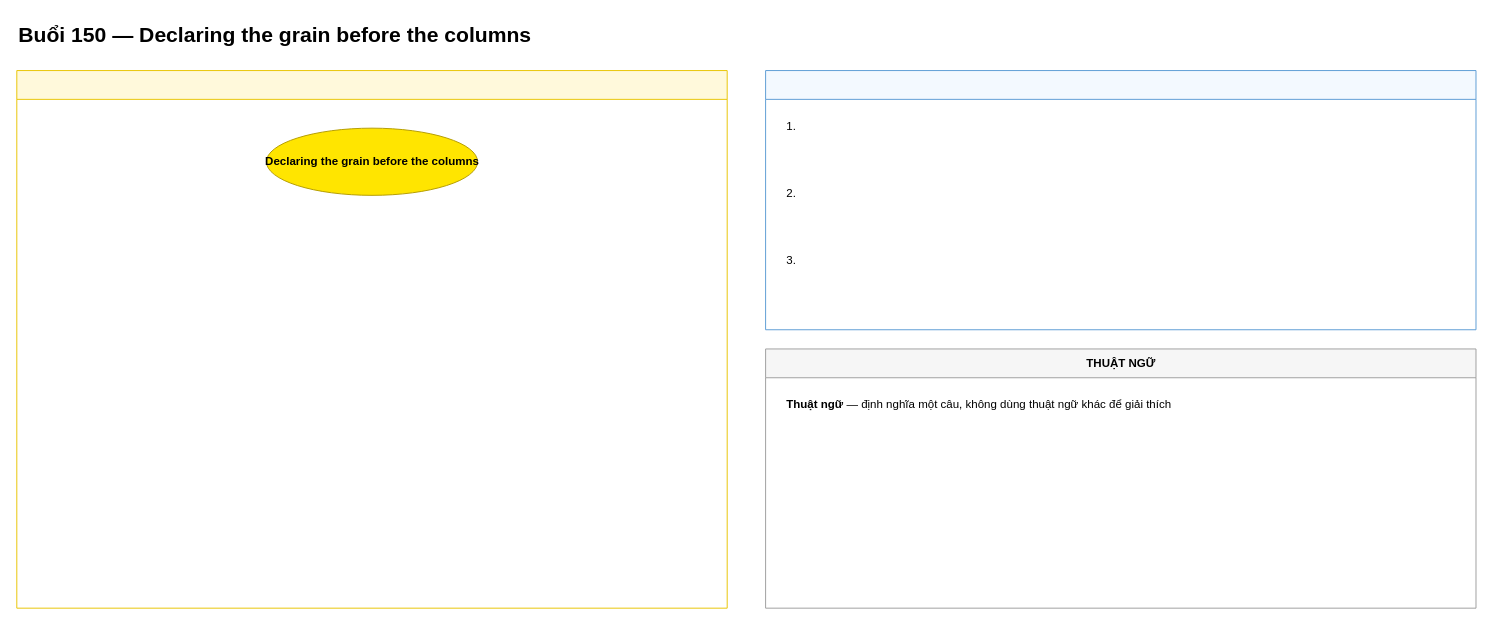
Some shapes in this 1493 by 625 pixel diagram are drawn without their labels. The box of each missing label's shape, as (x1, y1, x2, y2) in pixels:
KEY TAKEAWAY — ba điều phải nhớ: (765, 70, 1476, 330)
MINDMAP: (16, 70, 727, 608)
